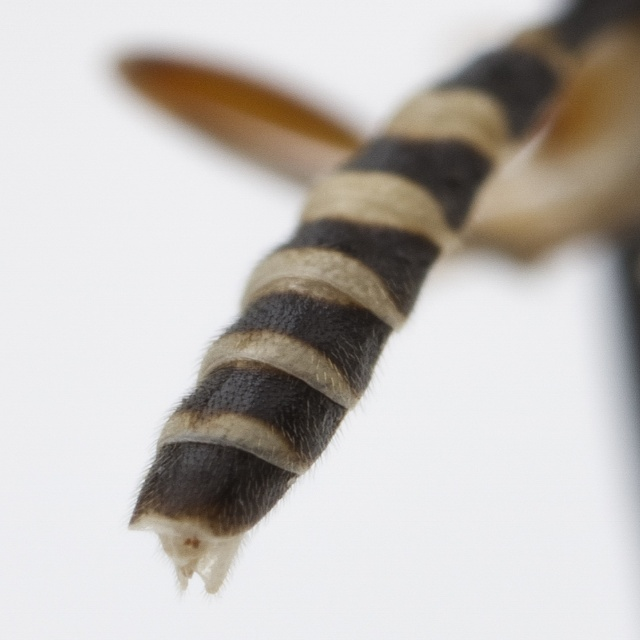Caterpillar: (122, 0, 639, 593)
